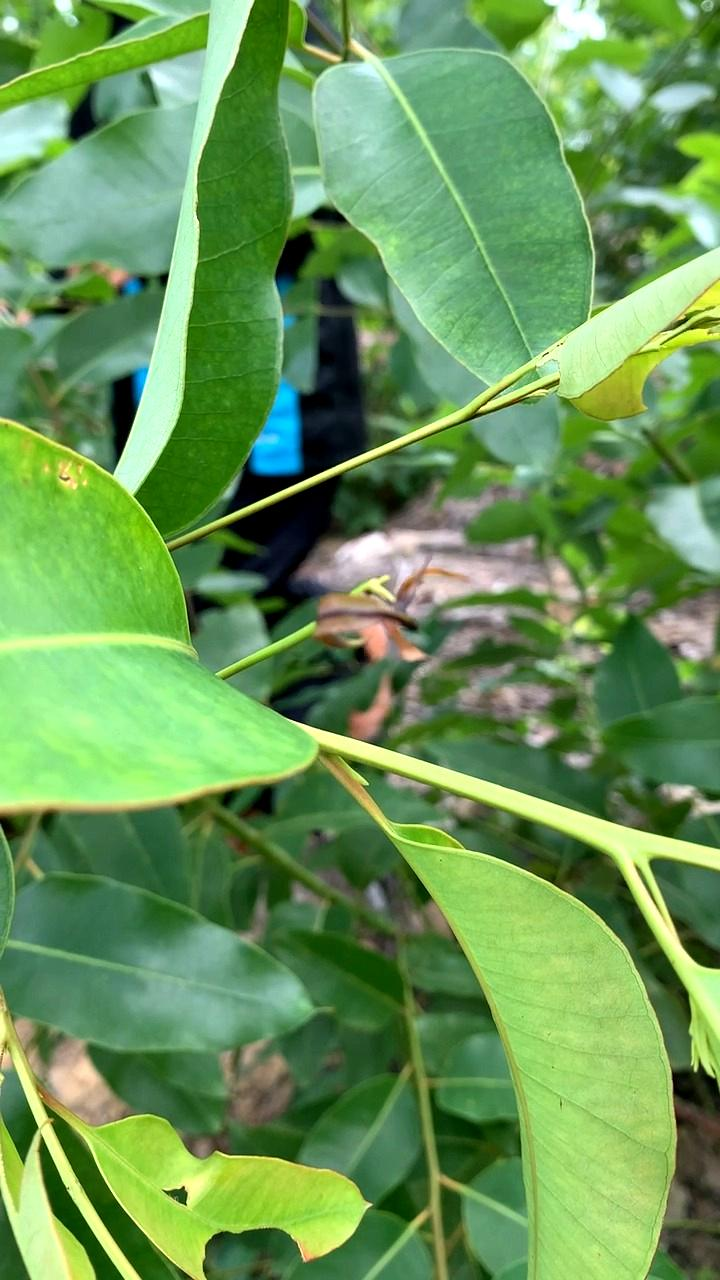Helopeltis-Withered Sprout: (326, 561, 469, 657)
